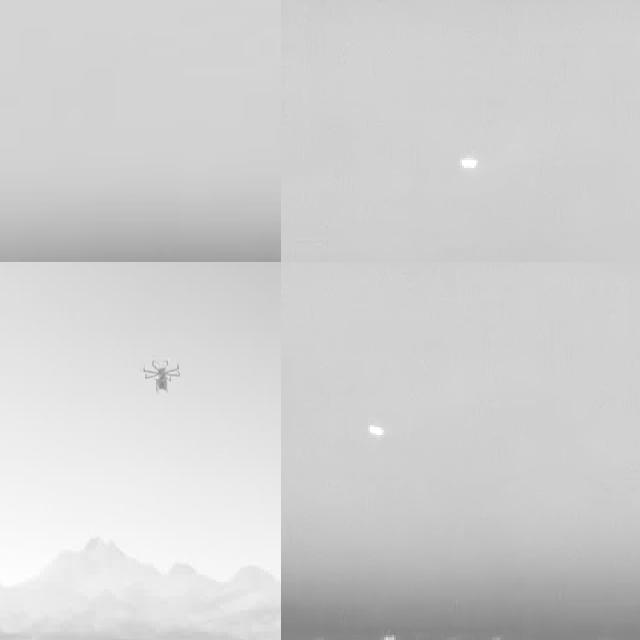1: (451, 152, 487, 182), (357, 419, 393, 449)
drone: (139, 349, 183, 405)
